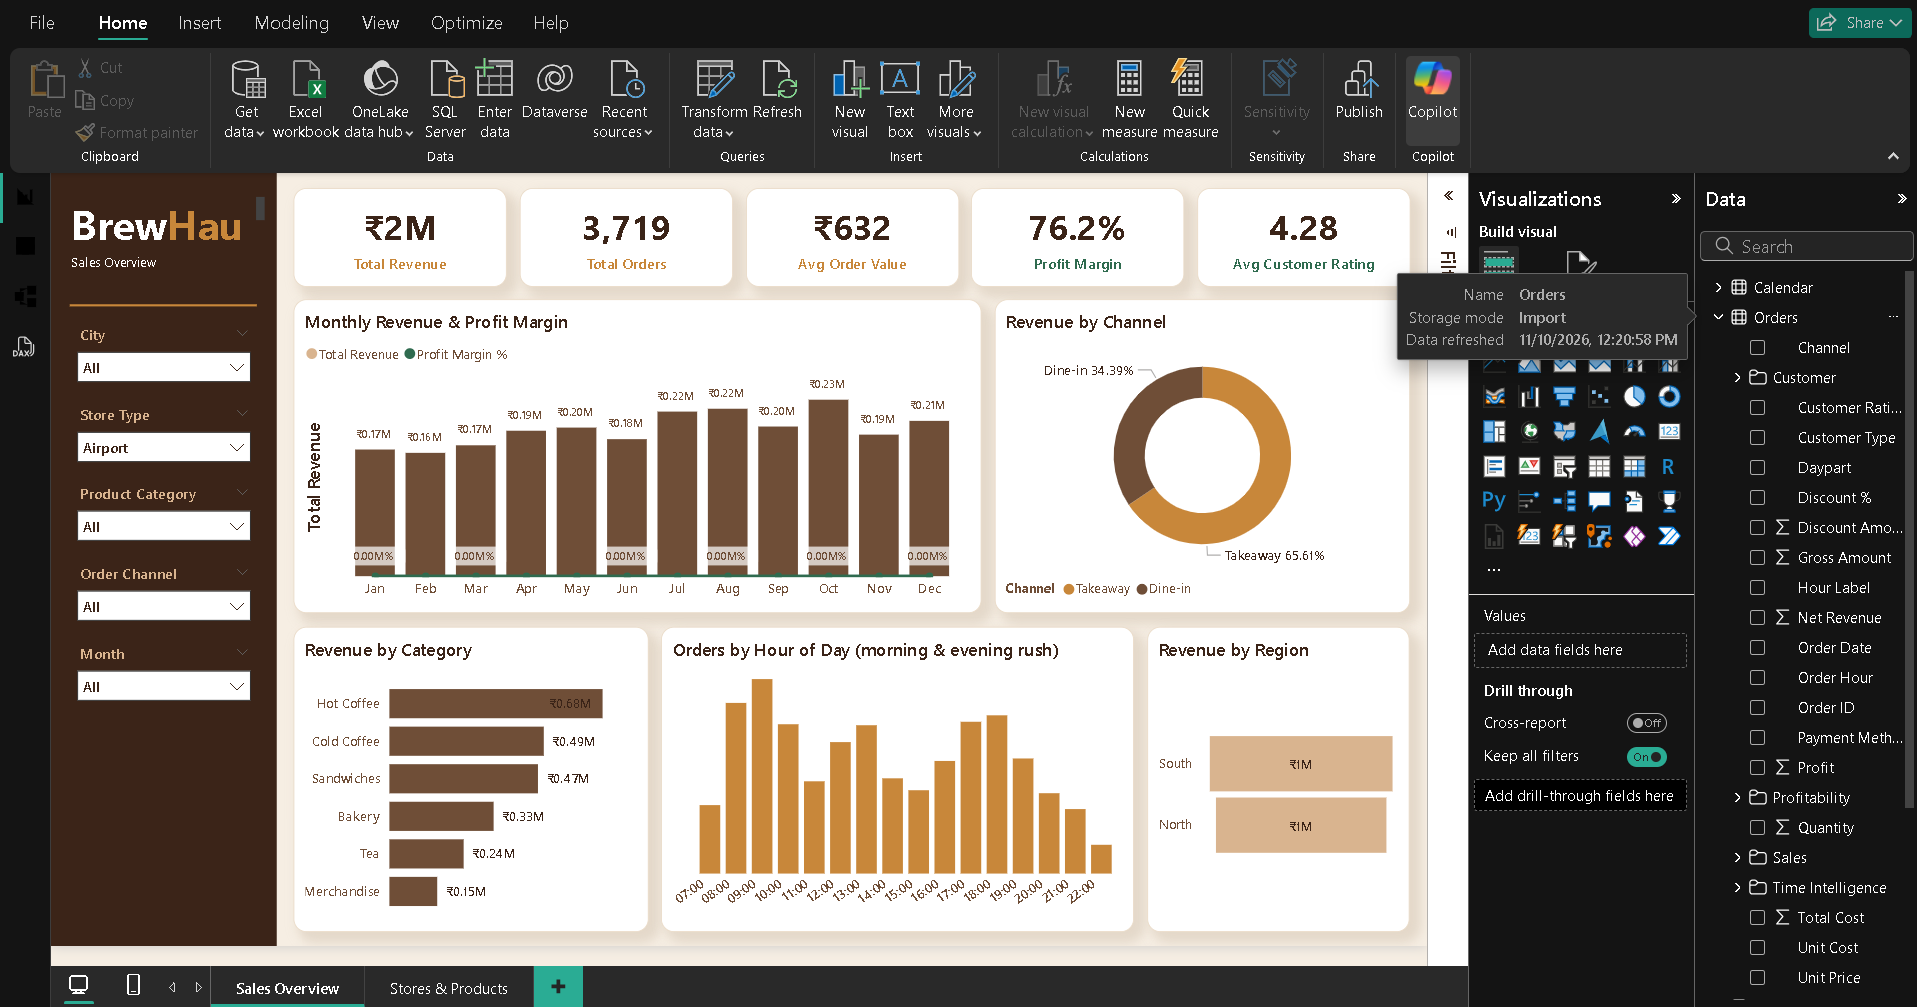

This screenshot's page, from the dashboard's own definition file:
{"tool":"powerbi","page":{"name":"Sales Overview","canvas":[1280,720],"ordinal":0},"visuals":[{"type":"shape","box":[0,0,210,720],"z":1000},{"type":"textbox","box":[14,18,190,56],"z":2000},{"type":"textbox","box":[14,70,190,46],"z":3000},{"type":"shape","box":[18,122,174,2],"z":4000},{"type":"slicer","fields":{"Values":["Stores.City"]},"box":[14,136,182,66],"z":5000},{"type":"slicer","fields":{"Values":["Stores.Store Type"]},"box":[14,210,182,66],"z":6000},{"type":"slicer","fields":{"Values":["Products.Category"]},"box":[14,284,182,66],"z":7000},{"type":"slicer","fields":{"Values":["Orders.Channel"]},"box":[14,358,182,66],"z":8000},{"type":"slicer","fields":{"Values":["Calendar.Month"]},"box":[14,432,182,66],"z":9000},{"type":"textbox","box":[14,660,190,48],"z":10000},{"type":"card","fields":{"Values":["Orders.Total Revenue"]},"box":[226,14,198,92],"z":11000},{"type":"card","fields":{"Values":["Orders.Total Orders"]},"box":[436,14,198,92],"z":12000},{"type":"card","fields":{"Values":["Orders.Avg Order Value"]},"box":[646,14,198,92],"z":13000},{"type":"card","fields":{"Values":["Orders.Profit Margin %"]},"box":[856,14,198,92],"z":14000},{"type":"card","fields":{"Values":["Orders.Avg Rating"]},"box":[1066,14,198,92],"z":15000},{"type":"lineClusteredColumnComboChart","title":"Monthly Revenue & Profit Margin","fields":{"Category":["Calendar.Month"],"Y":["Orders.Total Revenue"],"Y2":["Orders.Profit Margin %"]},"box":[226,118,640,292],"z":16000},{"type":"donutChart","title":"Revenue by Channel","fields":{"Category":["Orders.Channel"],"Y":["Orders.Total Revenue"]},"box":[878,118,386,292],"z":17000},{"type":"clusteredBarChart","title":"Revenue by Category","fields":{"Category":["Products.Category"],"Y":["Orders.Total Revenue"]},"box":[226,422,330,284],"z":18000},{"type":"clusteredColumnChart","title":"Orders by Hour of Day  (morning & evening rush)","fields":{"Category":["Orders.Hour Label"],"Y":["Orders.Total Orders"]},"box":[568,422,440,284],"z":19000},{"type":"funnel","title":"Revenue by Region","fields":{"Category":["Stores.Region"],"Y":["Orders.Total Revenue"]},"box":[1020,422,244,284],"z":20000}]}

Visuals, with their boxes on the page's 1280x720 design canvas (x1, y1, x2, y2). These are canvas units, not pixel positions in the 1917x1007 screenshot, which may show the page scaled, cropped or inside an application window:
shape: <region>0, 0, 210, 720</region>
textbox: <region>14, 18, 204, 74</region>
textbox: <region>14, 70, 204, 116</region>
shape: <region>18, 122, 192, 124</region>
slicer - Stores.City: <region>14, 136, 196, 202</region>
slicer - Stores.Store Type: <region>14, 210, 196, 276</region>
slicer - Products.Category: <region>14, 284, 196, 350</region>
slicer - Orders.Channel: <region>14, 358, 196, 424</region>
slicer - Calendar.Month: <region>14, 432, 196, 498</region>
textbox: <region>14, 660, 204, 708</region>
card - Orders.Total Revenue: <region>226, 14, 424, 106</region>
card - Orders.Total Orders: <region>436, 14, 634, 106</region>
card - Orders.Avg Order Value: <region>646, 14, 844, 106</region>
card - Orders.Profit Margin %: <region>856, 14, 1054, 106</region>
card - Orders.Avg Rating: <region>1066, 14, 1264, 106</region>
"Monthly Revenue & Profit Margin" lineClusteredColumnComboChart: <region>226, 118, 866, 410</region>
"Revenue by Channel" donutChart: <region>878, 118, 1264, 410</region>
"Revenue by Category" clusteredBarChart: <region>226, 422, 556, 706</region>
"Orders by Hour of Day  (morning & evening rush)" clusteredColumnChart: <region>568, 422, 1008, 706</region>
"Revenue by Region" funnel: <region>1020, 422, 1264, 706</region>
